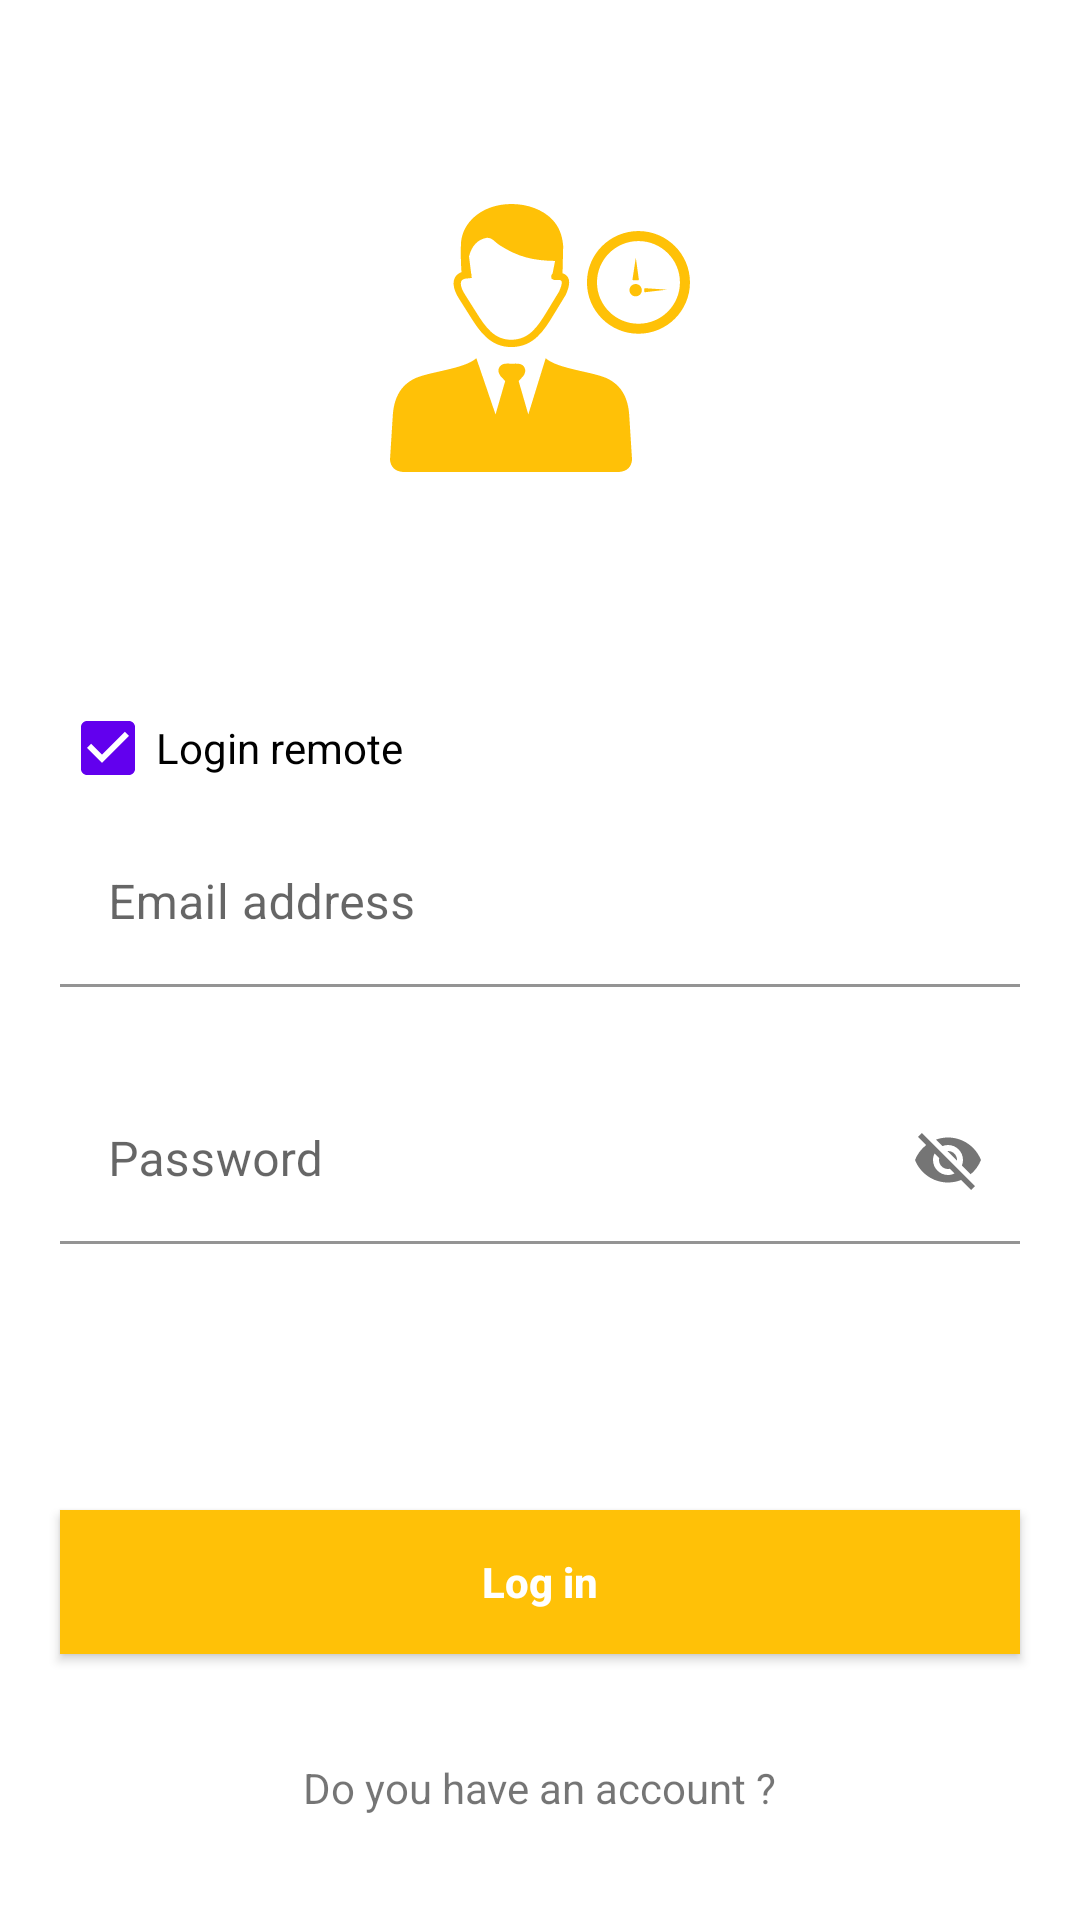

Icons on this 1080px x 1920px Android screen, each with the point to tap as [x,y]:
businessman task time: [540,338]
